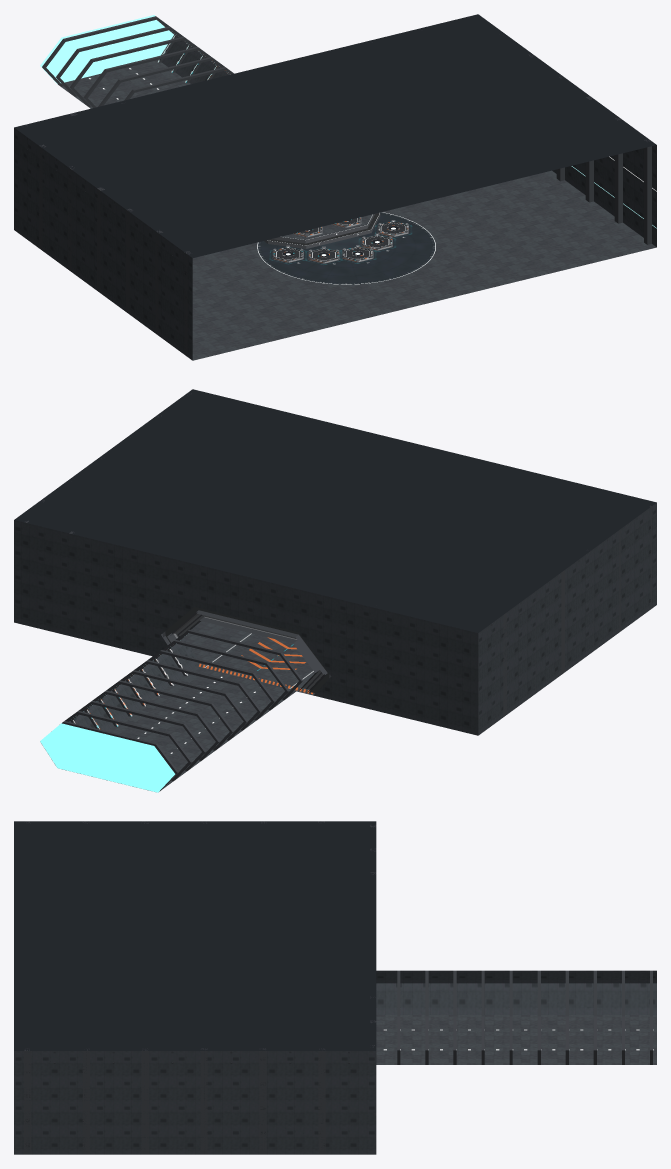
Rendered from launch-bay.glb.
3 renders of one model, top to bottom at view 1: azimuth 30°, elevation 25°; view 2: azimuth 150°, elevation 25°; view 3: azimuth 270°, elevation 25°, orthographic.
Parts seen in each view (by area): view 1: Bay ceiling, Bay structure, Bay deck, Bay markings, Bay lights; view 2: Bay ceiling, Bay structure, Bay lights, Bay deck, Bay markings; view 3: Bay ceiling, Bay structure.
Boxes of the visible parts, bbox=[...] form: Bay ceiling: bbox=[14, 14, 656, 257]; Bay structure: bbox=[14, 16, 656, 360]; Bay deck: bbox=[192, 170, 656, 360]; Bay markings: bbox=[258, 212, 435, 284]; Bay lights: bbox=[40, 15, 656, 284]; Bay ceiling: bbox=[14, 389, 656, 636]; Bay structure: bbox=[14, 393, 656, 791]; Bay lights: bbox=[40, 649, 255, 792]; Bay deck: bbox=[184, 621, 314, 695]; Bay markings: bbox=[199, 633, 313, 694]; Bay ceiling: bbox=[14, 821, 376, 1063]; Bay structure: bbox=[14, 821, 656, 1154].
Bounding box in the file's own units: 120 × 25.32 × 142.
Materials: 23 (6 with a texture image).
